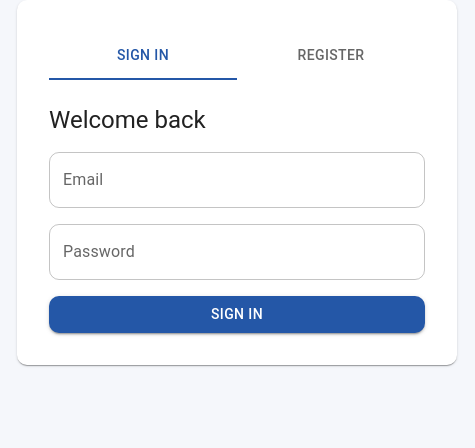
Test: AuthScreen › shows the normalized authentication error
In the field labelled "Email": (237, 180) x1=49 y1=152 x2=425 y2=208, type "ada@example.com"
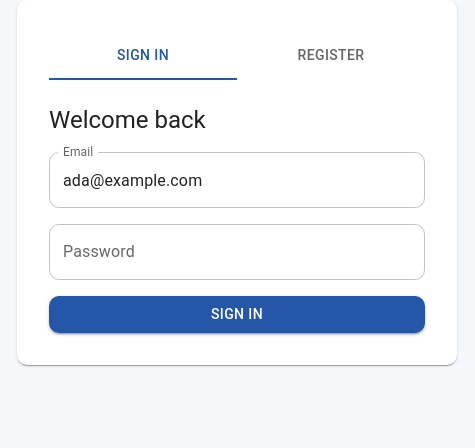
In the password field labelled "Password": (237, 252) x1=49 y1=224 x2=425 y2=280, type "wrong"
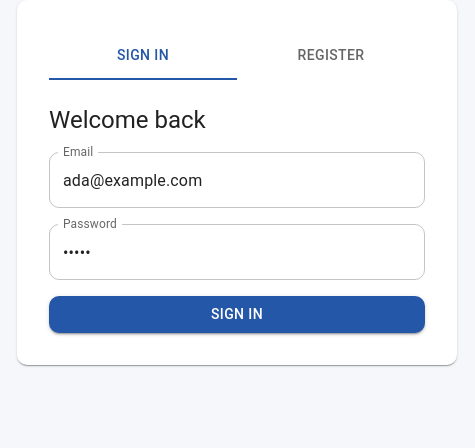
Click the button "Sign in": (237, 314) x1=49 y1=296 x2=425 y2=332
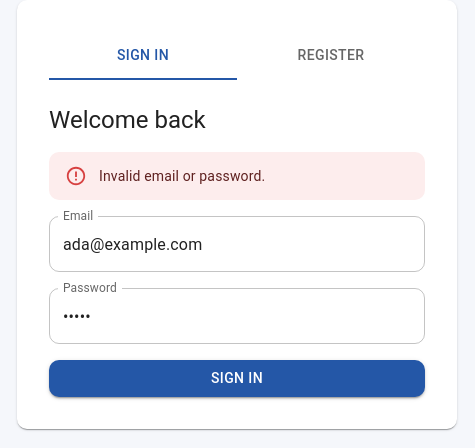
Now the message reads "Invalid email or password.", box x1=99 y1=168 x2=265 y2=184
